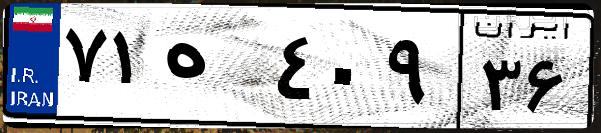0: (330, 28, 385, 110)
1: (110, 28, 158, 98)
3: (475, 38, 525, 113)
4: (270, 28, 330, 110)
6: (525, 38, 570, 115)
7: (57, 26, 110, 100)
9: (385, 28, 445, 110)
ه: (158, 20, 270, 120)
